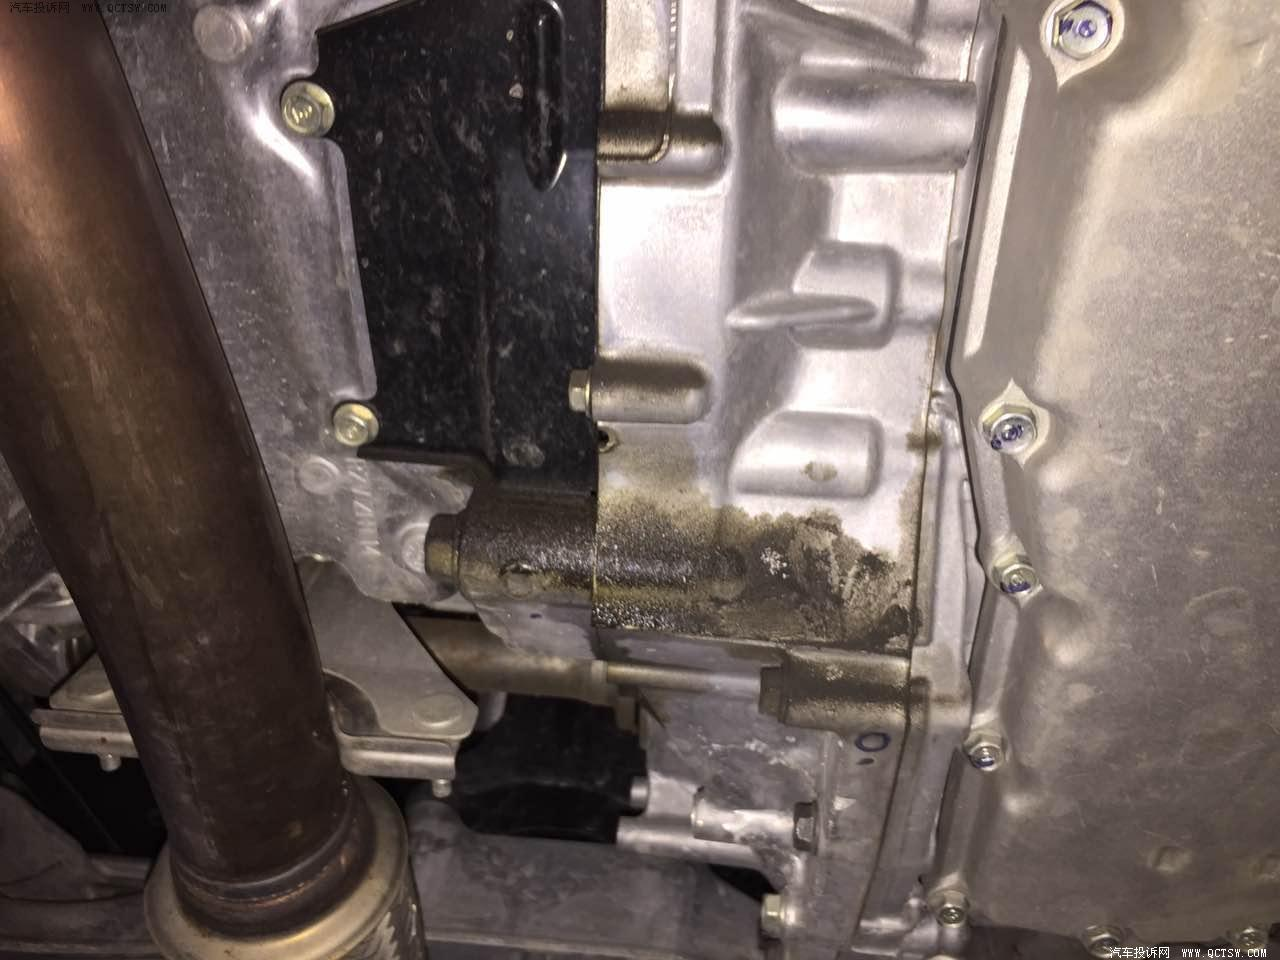oil: (417, 488, 926, 712)
